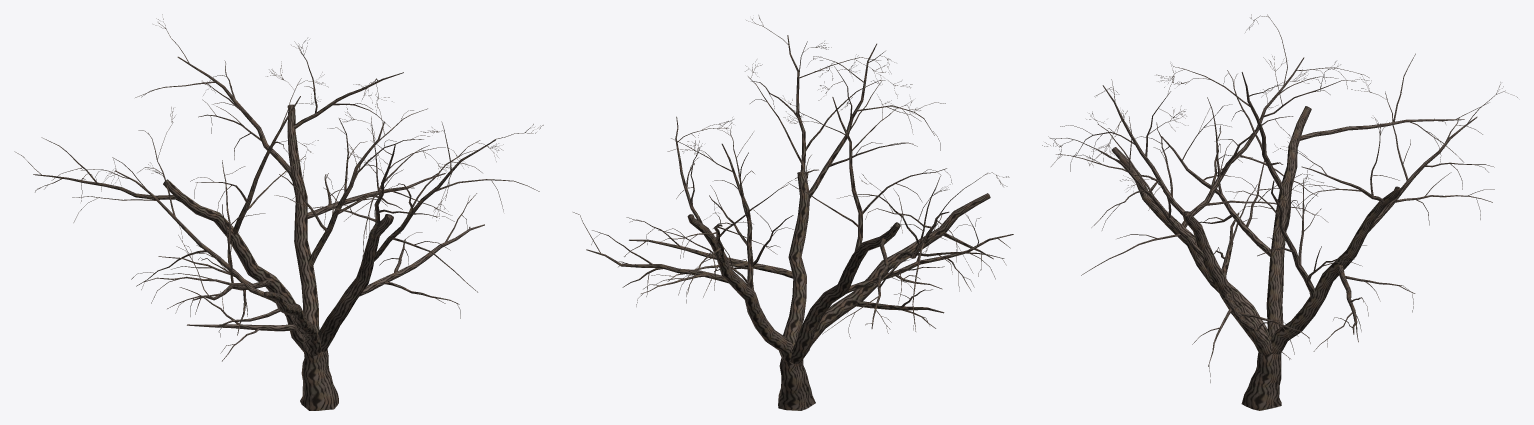
Rendered from dead_standing-a.lod0.glb.
3 renders of one model, left to right at view 1: azimuth 30°, elevation 25°; view 2: azimuth 150°, elevation 25°; view 3: azimuth 270°, elevation 25°, orthographic. The views are drawn at different scales.
Visible parts, largest first — view 1: bark; view 2: bark; view 3: bark.
Boxes of the visible parts, x1,y1,x2,y2 form: bark: (14,14,543,410); bark: (573,15,1013,410); bark: (1042,14,1517,410).
Size of the model in its own units: 10.37 by 8 by 10.45.
1 material, 1 textured.
